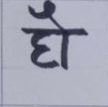au_matra: (36, 3, 76, 65)
